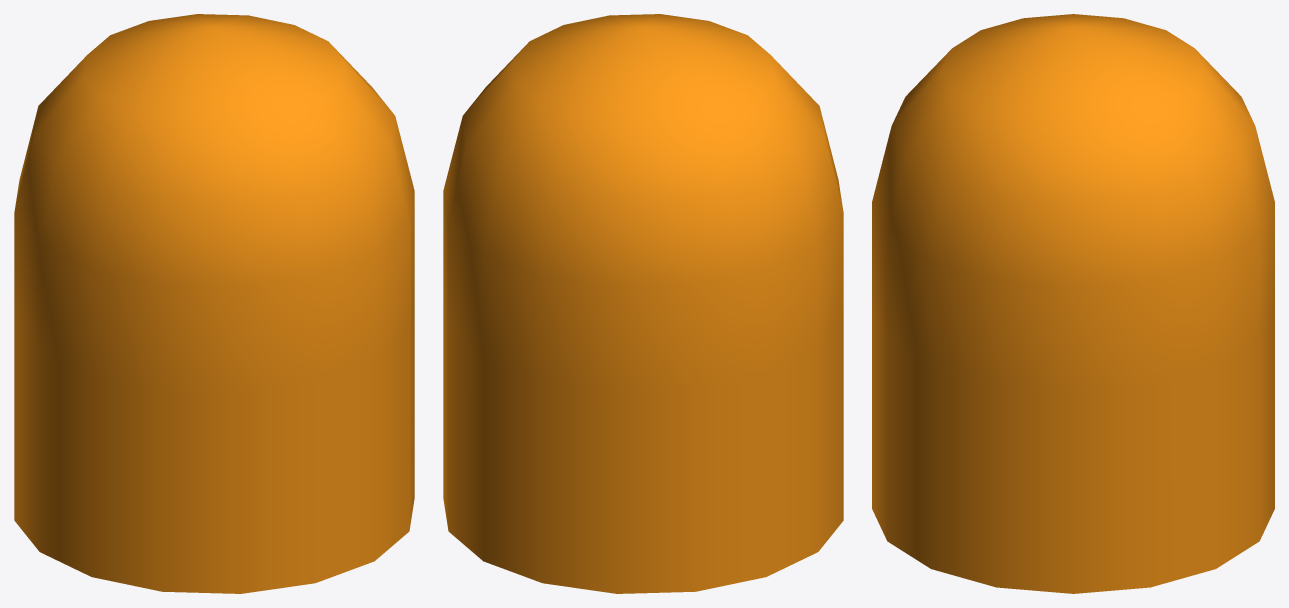
The model's file is Arm_Sleeve_L_10_R.fbx.
3 views of the same model, side by side, from view 1: azimuth 30°, elevation 25°; view 2: azimuth 150°, elevation 25°; view 3: azimuth 270°, elevation 25° (orthographic).
Parts seen in each view (by area): view 1: Arm_Sleeve_L_10_R; view 2: Arm_Sleeve_L_10_R; view 3: Arm_Sleeve_L_10_R.
Part boxes in pixels (x1,y1,x2,y2): Arm_Sleeve_L_10_R: (14, 14, 414, 593); Arm_Sleeve_L_10_R: (443, 14, 843, 593); Arm_Sleeve_L_10_R: (872, 14, 1274, 593).
Bounding box in the file's own units: 48.18 × 63.45 × 48.18.
